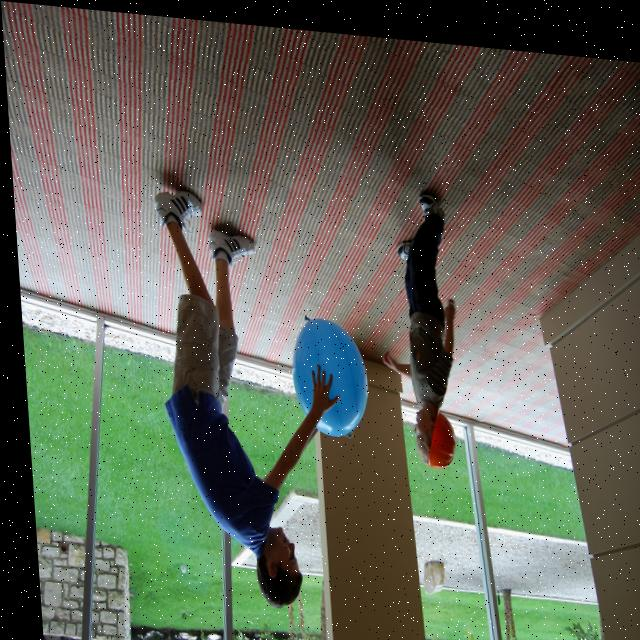balloon: (282, 300, 365, 434)
